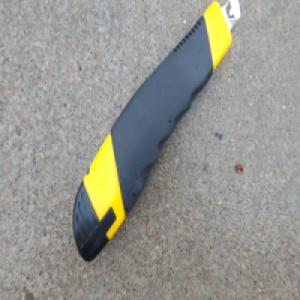Cutter: (73, 2, 239, 260)
